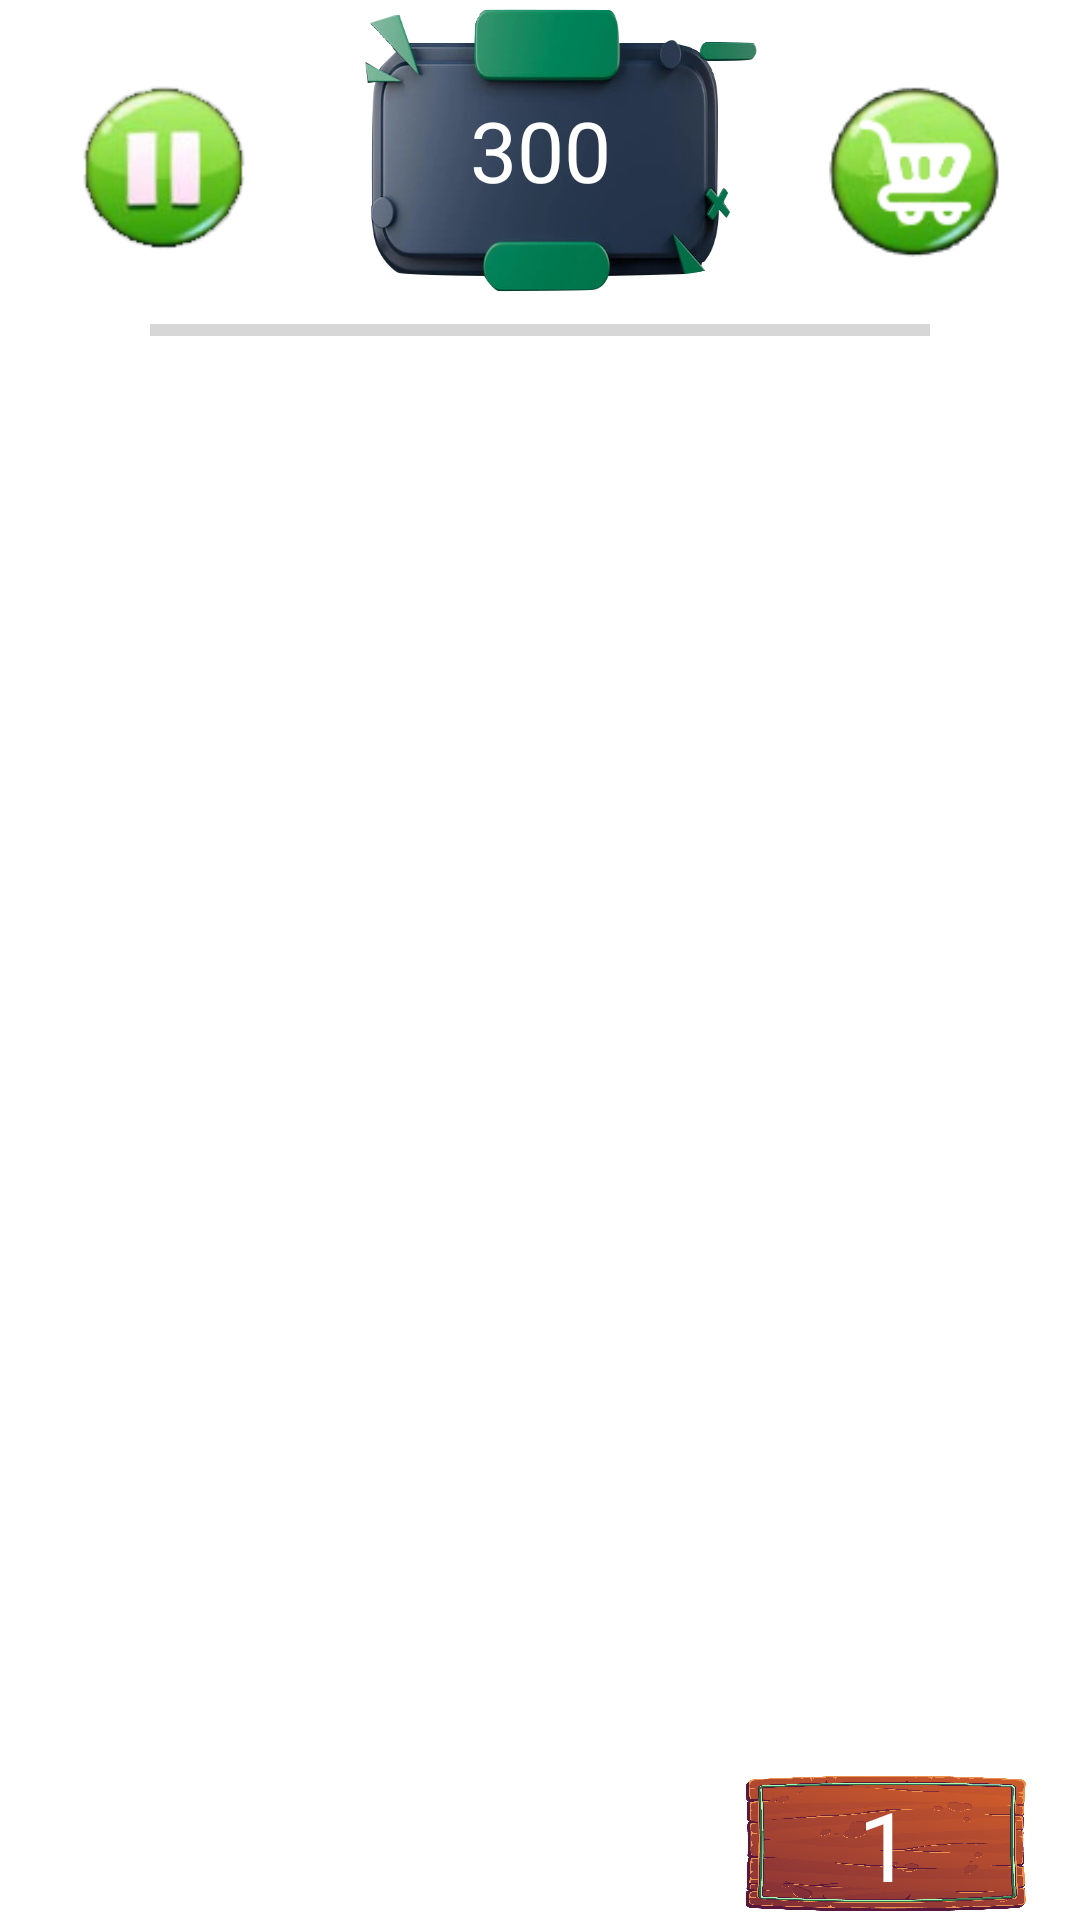

Icon click points for this 1080x1920 phone screenshot, format [x,y]:
pause: [164,167]
shop: [914,172]
